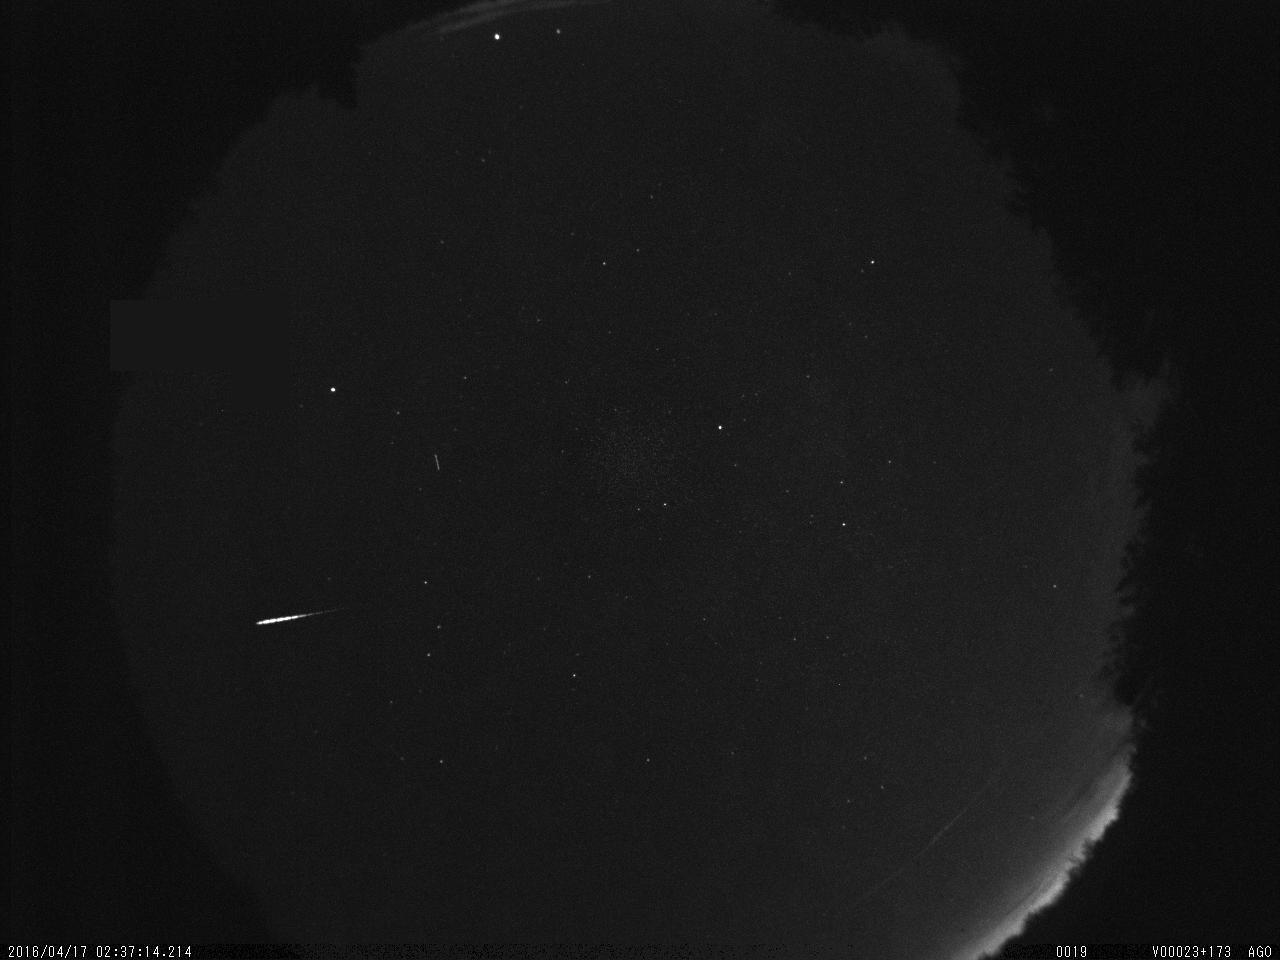meteor: (252, 594, 358, 634)
satelite: (427, 449, 446, 478)
